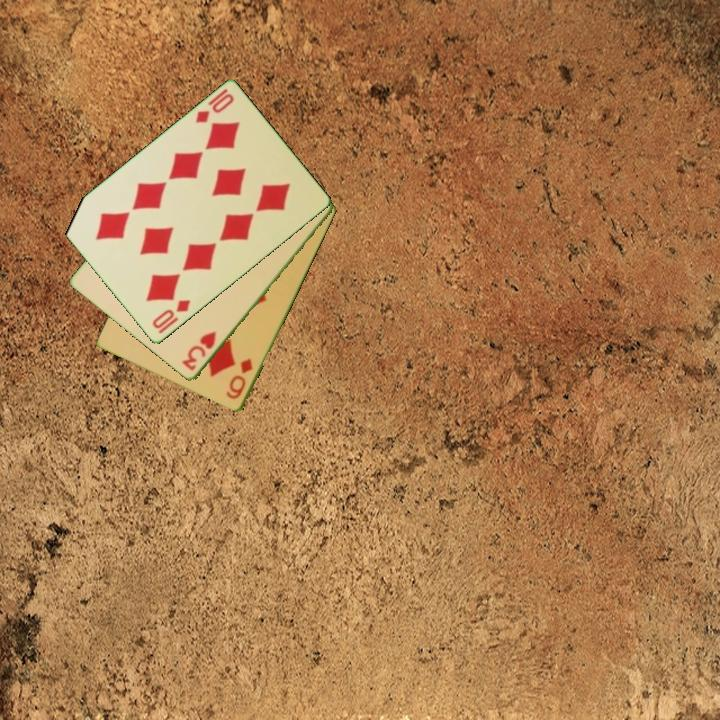10d: (192, 90, 237, 126), (149, 296, 193, 332)
3h: (178, 328, 220, 374)
6d: (223, 355, 256, 403)
